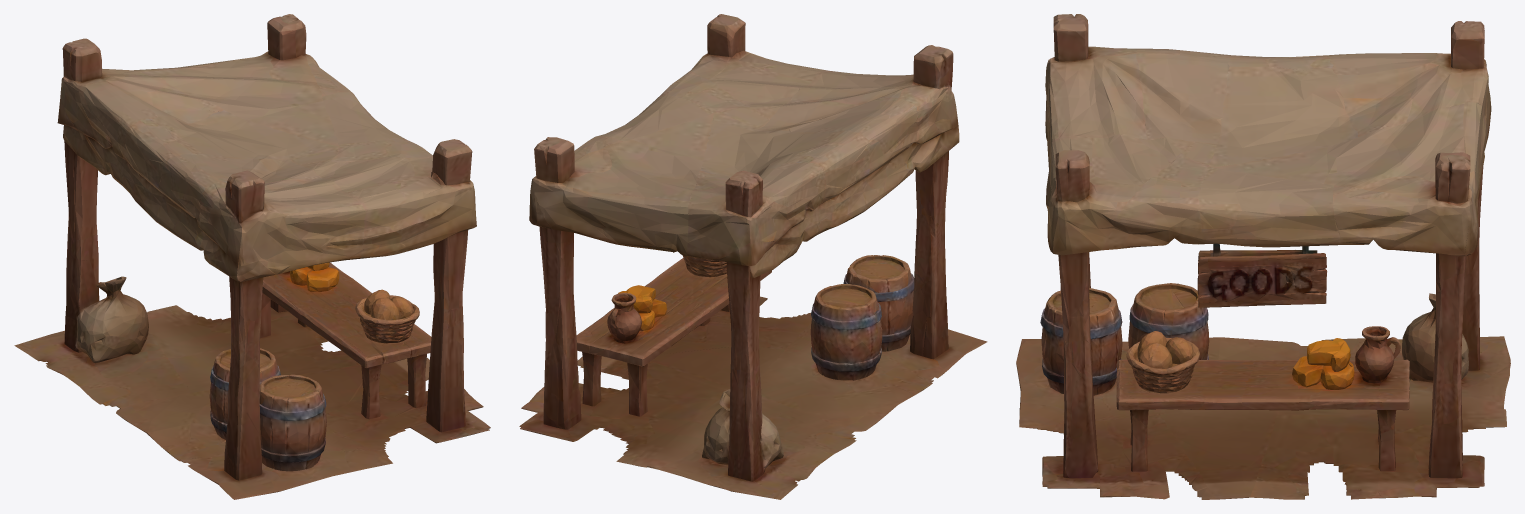
Rendered from market_t1.glb.
The picture shows the model from 3 angles, left to right: view 1: azimuth 30°, elevation 25°; view 2: azimuth 150°, elevation 25°; view 3: azimuth 270°, elevation 25°; orthographic projection. The views are drawn at different scales.
Visible parts, largest first — view 1: tripo_node_16161eed-5bdd-4211-975d-4c65d115c5df; view 2: tripo_node_16161eed-5bdd-4211-975d-4c65d115c5df; view 3: tripo_node_16161eed-5bdd-4211-975d-4c65d115c5df.
Part boxes in pixels (x1,y1,x2,y2): tripo_node_16161eed-5bdd-4211-975d-4c65d115c5df: (14,14,490,499); tripo_node_16161eed-5bdd-4211-975d-4c65d115c5df: (519,14,987,499); tripo_node_16161eed-5bdd-4211-975d-4c65d115c5df: (1016,14,1510,499).
Bounding box in the file's own units: 0.7646 × 0.7431 × 0.9799.
Materials: 1 (1 with a texture image).
